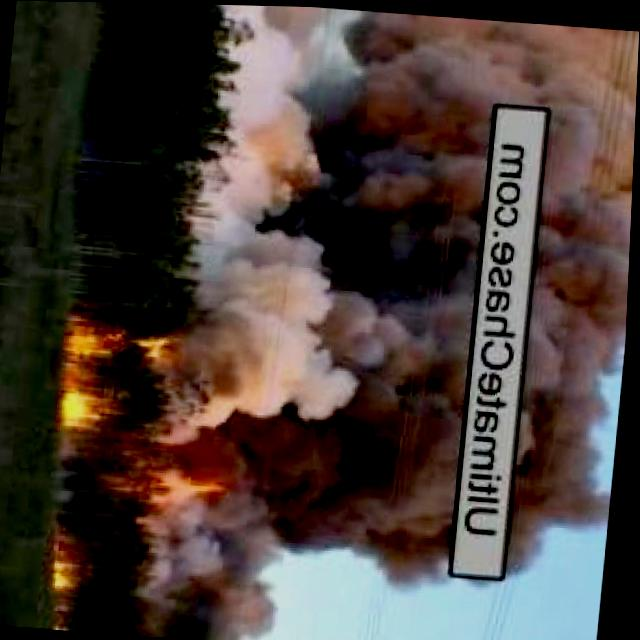helmet: (60, 317, 187, 434), (141, 465, 249, 505), (56, 550, 103, 587)
no_helmet: (190, 4, 502, 483), (511, 21, 640, 579), (220, 471, 449, 640), (133, 502, 231, 640)
